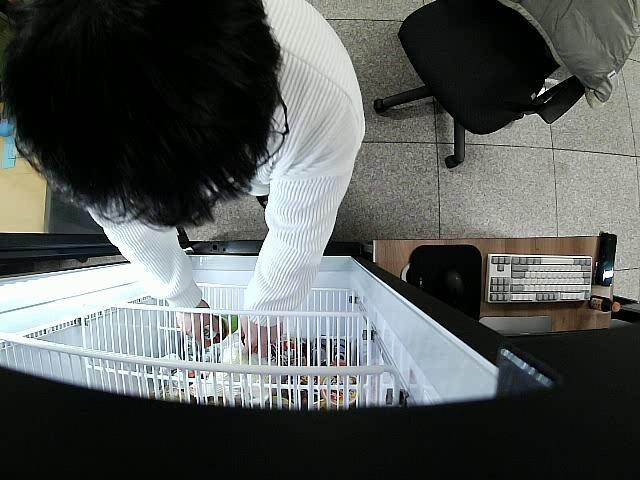19_17cha: (207, 312, 240, 344)
